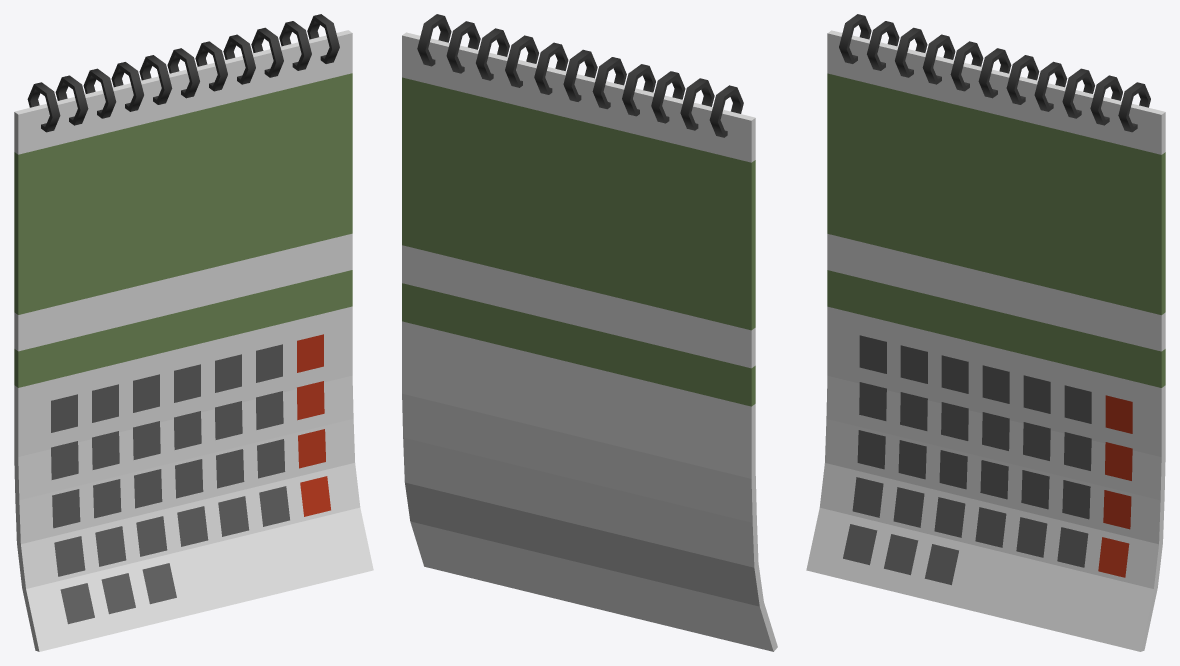
The model's file is Calendar_01.fbx.
The picture shows the model from 3 angles, left to right: view 1: azimuth 30°, elevation 25°; view 2: azimuth 150°, elevation 25°; view 3: azimuth 330°, elevation 25°; orthographic projection. The views are drawn at different scales.
Visible parts, largest first — view 1: Calendar_01; view 2: Calendar_01; view 3: Calendar_01.
Part boxes in pixels (x1=…): Calendar_01: x1=14, y1=14, x2=373, y2=651; Calendar_01: x1=402, y1=14, x2=777, y2=651; Calendar_01: x1=806, y1=14, x2=1165, y2=651.
Size of the model in its own units: 0.1955 by 0.3035 by 0.0351.
